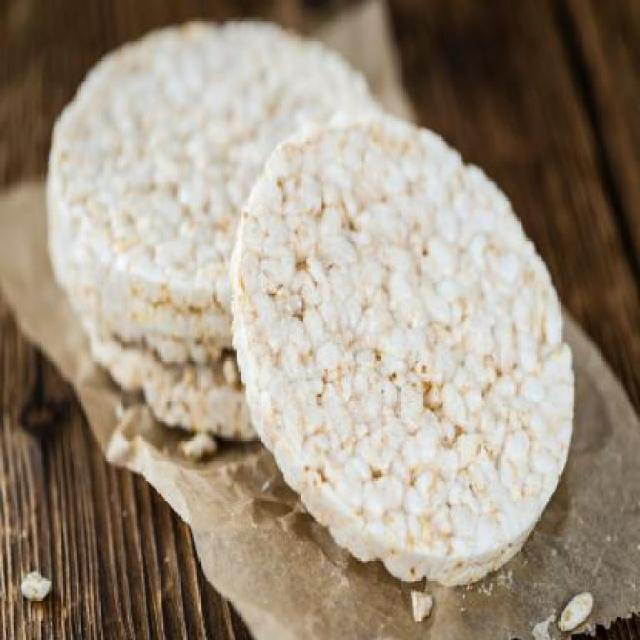Gallette di riso packaged: (230, 102, 584, 592), (34, 10, 442, 353)
